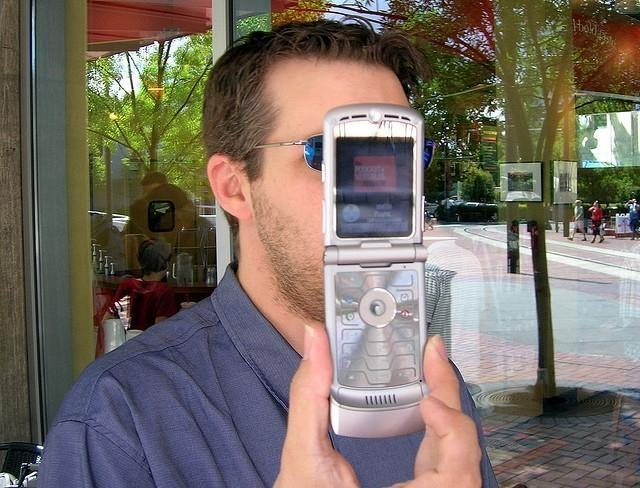car: (463, 201, 488, 206)
